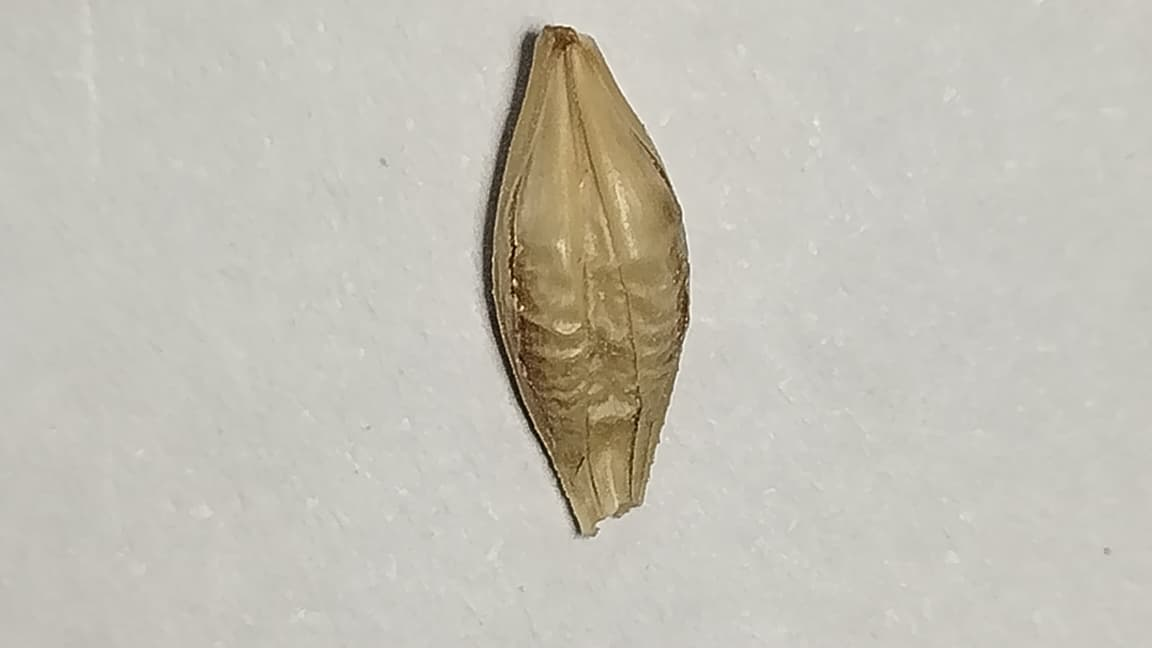healthy-50-40: (492, 28, 687, 534)
shriveledseed: (520, 311, 675, 446)
staindamage: (475, 253, 537, 352), (654, 205, 688, 346)
